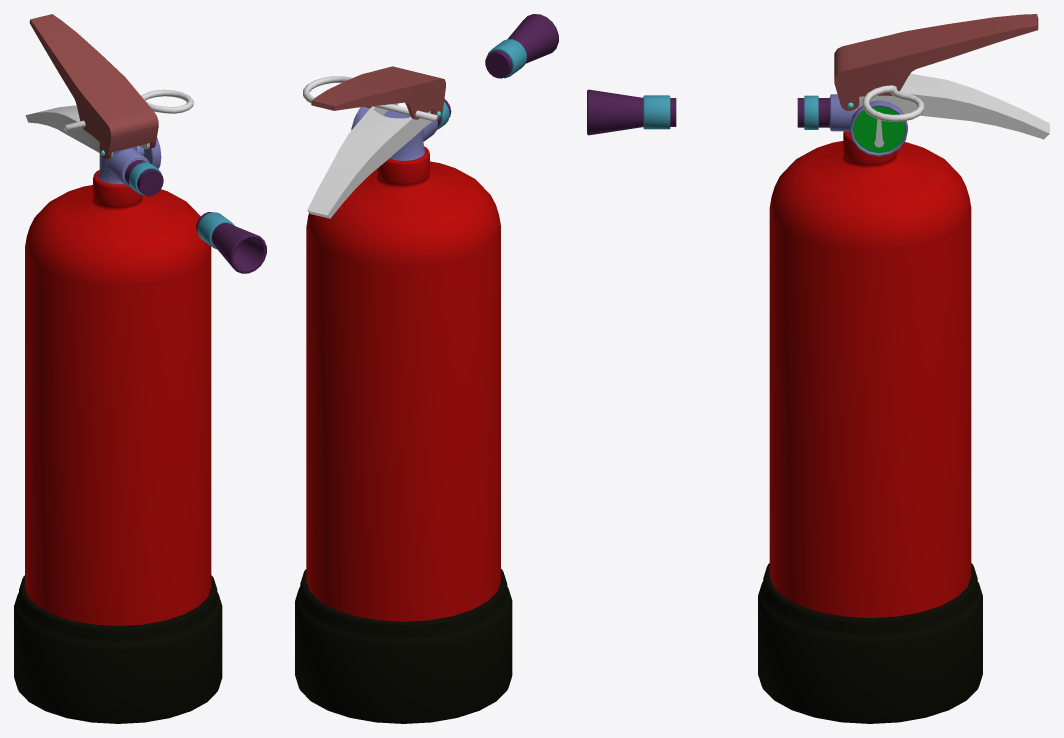
Rendered from FireExtinguisher.fbx.
The picture shows the model from 3 angles, left to right: view 1: azimuth 30°, elevation 25°; view 2: azimuth 150°, elevation 25°; view 3: azimuth 270°, elevation 25°; orthographic projection. The views are drawn at different scales.
Parts seen in each view (by area): view 1: Body, TopHandle, Nozzle, BottomHandle, Pin; view 2: Body, BottomHandle, TopHandle, Nozzle, Pin; view 3: Body, TopHandle, BottomHandle, Nozzle, Pin.
Part boxes in pixels (x1,y1,x2,y2): Body: (14, 137, 222, 723); TopHandle: (29, 14, 158, 159); Nozzle: (196, 212, 266, 273); BottomHandle: (25, 105, 149, 157); Pin: (64, 89, 193, 131); Body: (295, 99, 512, 723); BottomHandle: (307, 103, 432, 218); TopHandle: (311, 66, 445, 119); Nozzle: (485, 14, 558, 78); Pin: (303, 76, 437, 121); Body: (758, 94, 982, 723); TopHandle: (834, 14, 1038, 110); BottomHandle: (853, 73, 1049, 139); Nozzle: (587, 89, 676, 135); Pin: (862, 85, 924, 121).
Bounding box in the file's own units: 2.23 × 7.21 × 4.59.
